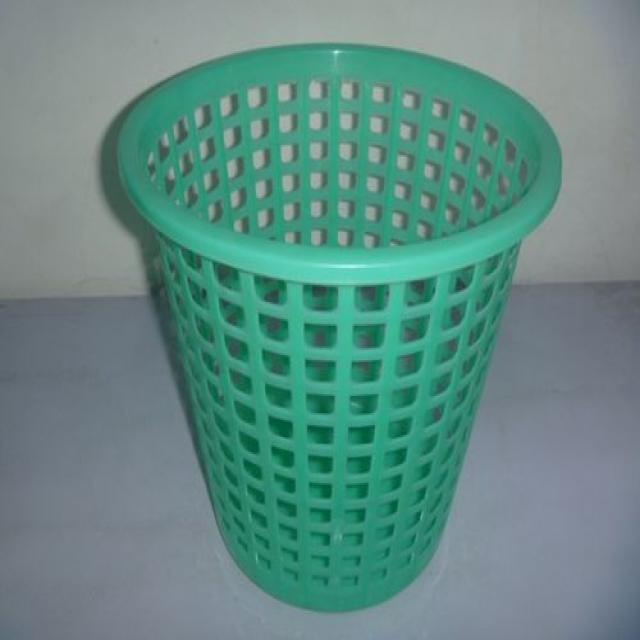Dustbin: (110, 36, 567, 616)
